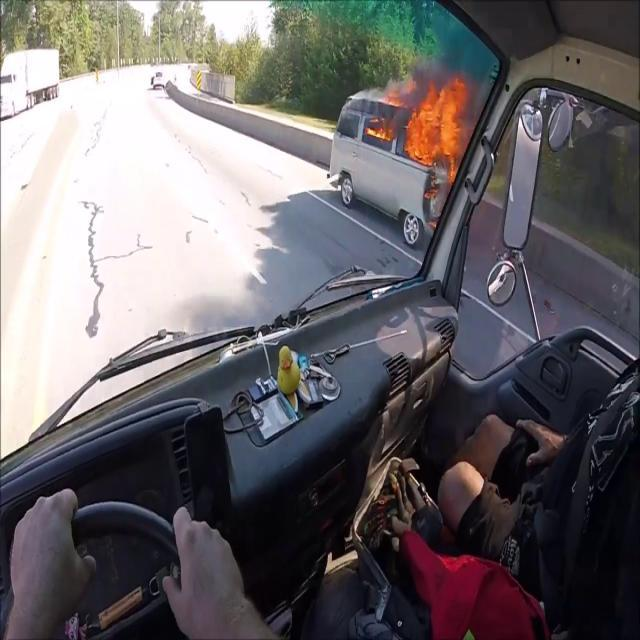Fire: (400, 66, 474, 181)
